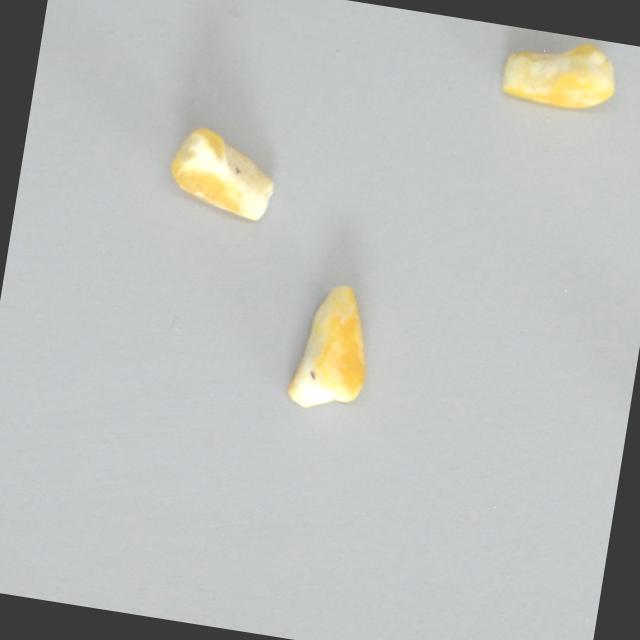punto_negro: (279, 272, 384, 422), (492, 25, 627, 126), (159, 118, 285, 226)
